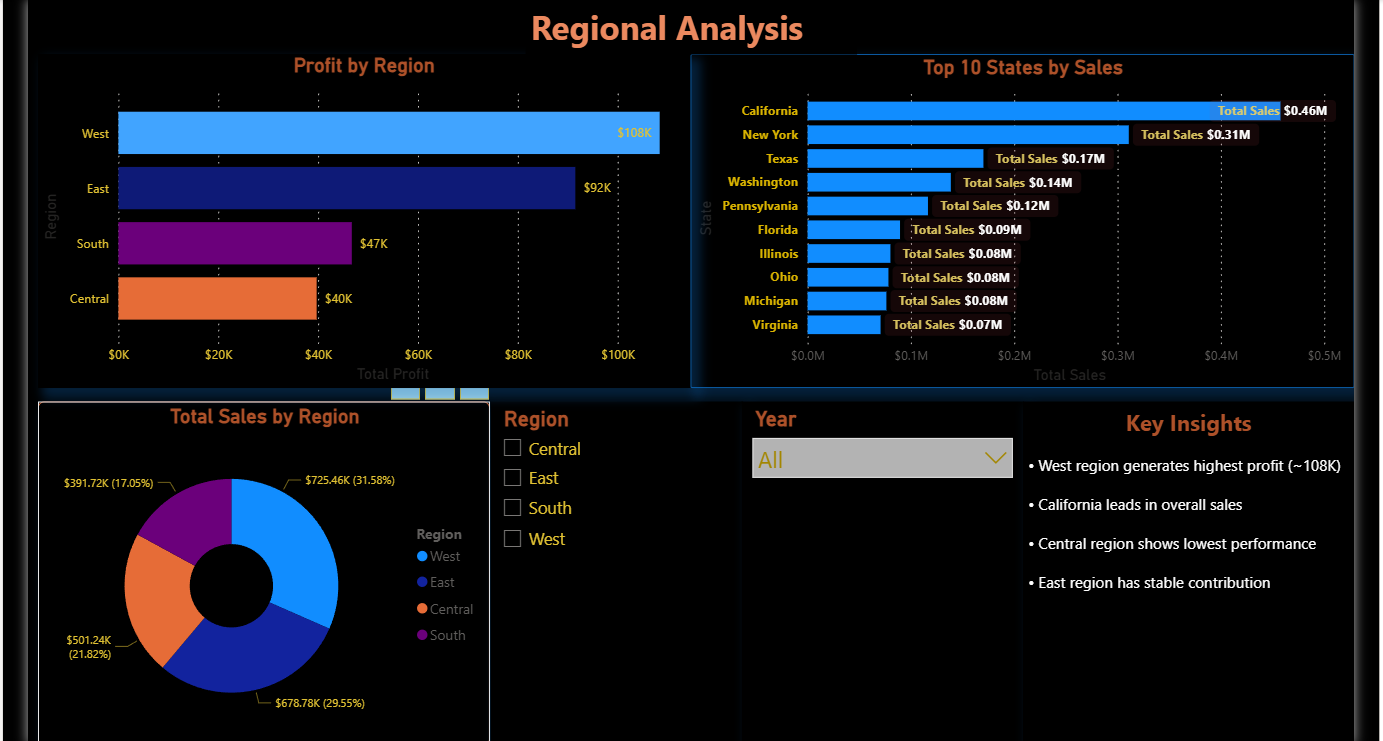

Layout of this report page (visuals, bound fields, positions):
{"tool":"powerbi","page":{"name":"Regional Analysis","canvas":[1280,720],"ordinal":0},"visuals":[{"type":"clusteredBarChart","title":"Top 10 States by Sales","fields":{"Category":["Sample - Superstore.State"],"Y":["Sample - Superstore.Total Sales"]},"box":[639.5,53.5,640.8,322.5],"z":0},{"type":"donutChart","fields":{"Category":["Sample - Superstore.Region"],"Y":["Sample - Superstore.Total Sales"]},"box":[9.6,388.3,436.4,332.1],"z":1000},{"type":"slicer","fields":{"Values":["Sample - Superstore.Region"]},"box":[446,388.3,242.9,332.1],"z":2000},{"type":"slicer","fields":{"Values":["Sample - Superstore.Order Date.Variation.Date Hierarchy.Year"]},"box":[688.9,388.3,271.7,332.1],"z":3000},{"type":"barChart","title":" Profit by Region","fields":{"Category":["Sample - Superstore.Region"],"Y":["Sample - Superstore.Total Profit"]},"box":[9.6,53.5,629.8,322.5],"z":4000},{"type":"textbox","title":"Regional Analysis","box":[480.3,0,319.7,53.5],"z":5000},{"type":"textbox","box":[960.6,388.3,319.7,332.1],"z":6000}]}

Visuals, with their boxes on the page's 1280x720 design canvas (x1, y1, x2, y2). These are canvas units, not pixel positions in the 1383x741 screenshot, which may show the page scaled, cropped or inside an application window:
"Top 10 States by Sales" clusteredBarChart: pyautogui.locateOnScreen(640, 54, 1280, 376)
donutChart - Sample - Superstore.Region x Sample - Superstore.Total Sales: pyautogui.locateOnScreen(10, 388, 446, 720)
slicer - Sample - Superstore.Region: pyautogui.locateOnScreen(446, 388, 689, 720)
slicer - Sample - Superstore.Order Date.Variation.Date Hierarchy.Year: pyautogui.locateOnScreen(689, 388, 961, 720)
" Profit by Region" barChart: pyautogui.locateOnScreen(10, 54, 639, 376)
"Regional Analysis" textbox: pyautogui.locateOnScreen(480, 0, 800, 54)
textbox: pyautogui.locateOnScreen(961, 388, 1280, 720)
